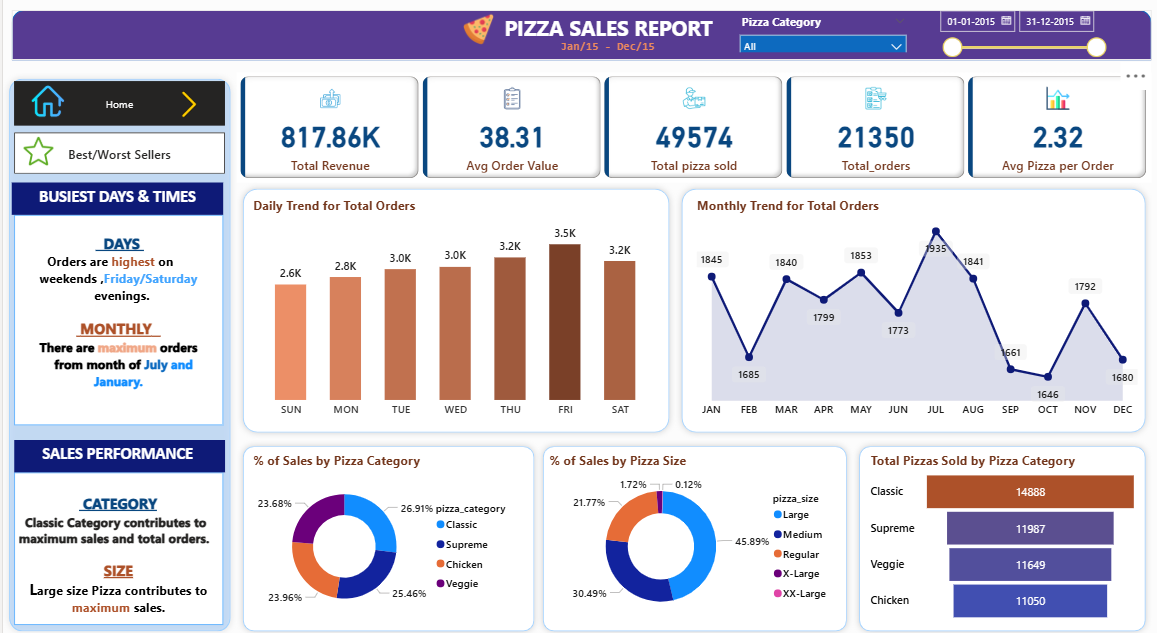

Layout of this report page (visuals, bound fields, positions):
{"tool":"powerbi","page":{"name":"Home","canvas":[1500,820],"ordinal":0},"visuals":[{"type":"cardVisual","fields":{"Data":["pizza_sales.Total Revenue","pizza_sales.Avg Order Value","pizza_sales.Total pizza sold","pizza_sales.Total_orders","pizza_sales.Avg Pizza per Order"]},"box":[300.7,93.3,1177.1,141.5],"z":0},{"type":"shape","box":[11.2,12.5,1466.2,65],"z":1000},{"type":"textbox","box":[623.3,13.3,310,50],"z":2000},{"type":"textbox","box":[691.7,45,173.3,36.7],"z":3000},{"type":"image","box":[576.7,13.3,68.3,50],"z":4000},{"type":"shape","box":[300.7,234.8,564.4,329.7],"z":5000},{"type":"columnChart","title":"Daily Trend for Total Orders ","fields":{"Category":["pizza_sales.Order Day"],"Y":["pizza_sales.Total_orders"]},"box":[316.8,252.5,532.3,294.3],"z":6000},{"type":"shape","box":[865.1,234.8,612.7,329.7],"z":7000},{"type":"shape","box":[0,93.3,300.7,726.8],"z":8000},{"type":"areaChart","title":"Monthly Trend for Total Orders","fields":{"Category":["pizza_sales.Order Month"],"Y":["pizza_sales.Total_orders"]},"box":[887.7,252.5,577.3,294.3],"z":9000},{"type":"shape","box":[686.6,566,11.3,254.1],"z":10000},{"type":"shape","box":[300.7,566,390.8,254.1],"z":11000},{"type":"shape","box":[1093.5,566,384.3,254.1],"z":12000},{"type":"shape","box":[686.6,566,406.8,254.1],"z":13000},{"type":"donutChart","title":"% of Sales by Pizza Category","fields":{"Category":["pizza_sales.pizza_category"],"Y":["pizza_sales.Total Revenue"]},"box":[316.8,580.5,357,223.5],"z":14000},{"type":"donutChart","title":"% of Sales by Pizza Size","fields":{"Y":["pizza_sales.Total Revenue"],"Category":["pizza_sales.pizza_size"]},"box":[697.9,580.5,379.5,223.5],"z":15000},{"type":"funnel","title":"Total Pizzas Sold by Pizza Category","fields":{"Category":["pizza_sales.pizza_category"],"Y":["pizza_sales.Total pizza sold"]},"box":[1111.2,580.5,353.8,223.5],"z":16000},{"type":"textbox","box":[11.3,234.8,271.8,41.8],"z":17000},{"type":"textbox","box":[14.5,607.8,268.5,196.2],"z":18000},{"type":"textbox","box":[14.5,276.6,268.5,270.2],"z":19000},{"type":"textbox","box":[14.5,566,271,41.8],"z":20000},{"type":"slicer","fields":{"Values":["pizza_sales.pizza_category"]},"box":[937.5,12.9,234.8,54.7],"z":21000},{"type":"slicer","fields":{"Values":["pizza_sales.order_date"]},"box":[1193.2,3.2,234.8,74],"z":22000},{"type":"pageNavigator","box":[14.5,104.5,271.8,57.9],"z":23000},{"type":"pageNavigator","box":[14.5,170.5,271.8,53.1],"z":24000},{"type":"image","box":[212.3,112.6,54.7,43.4],"z":25000},{"type":"image","box":[32.2,98.1,51.5,64.3],"z":26000},{"type":"image","box":[14.5,170.5,62.7,48.2],"z":27000}]}

Visuals, with their boxes in screenshot pixels (x1, y1, x2, y2), scaled from the page's 1500x820 canvas onto the 1157x633 screenshot:
cardVisual - pizza_sales.Total Revenue x pizza_sales.Avg Order Value: [left=232, top=72, right=1140, bottom=181]
shape: [left=9, top=10, right=1140, bottom=60]
textbox: [left=481, top=10, right=720, bottom=49]
textbox: [left=534, top=35, right=667, bottom=63]
image: [left=445, top=10, right=498, bottom=49]
shape: [left=232, top=181, right=667, bottom=436]
"Daily Trend for Total Orders " columnChart: [left=244, top=195, right=655, bottom=422]
shape: [left=667, top=181, right=1140, bottom=436]
shape: [left=0, top=72, right=232, bottom=632]
"Monthly Trend for Total Orders" areaChart: [left=685, top=195, right=1130, bottom=422]
shape: [left=530, top=437, right=538, bottom=632]
shape: [left=232, top=437, right=533, bottom=632]
shape: [left=843, top=437, right=1140, bottom=632]
shape: [left=530, top=437, right=843, bottom=632]
"% of Sales by Pizza Category" donutChart: [left=244, top=448, right=520, bottom=621]
"% of Sales by Pizza Size" donutChart: [left=538, top=448, right=831, bottom=621]
"Total Pizzas Sold by Pizza Category" funnel: [left=857, top=448, right=1130, bottom=621]
textbox: [left=9, top=181, right=218, bottom=214]
textbox: [left=11, top=469, right=218, bottom=621]
textbox: [left=11, top=214, right=218, bottom=422]
textbox: [left=11, top=437, right=220, bottom=469]
slicer - pizza_sales.pizza_category: [left=723, top=10, right=904, bottom=52]
slicer - pizza_sales.order_date: [left=920, top=2, right=1101, bottom=60]
pageNavigator: [left=11, top=81, right=221, bottom=125]
pageNavigator: [left=11, top=132, right=221, bottom=173]
image: [left=164, top=87, right=206, bottom=120]
image: [left=25, top=76, right=65, bottom=125]
image: [left=11, top=132, right=60, bottom=169]
